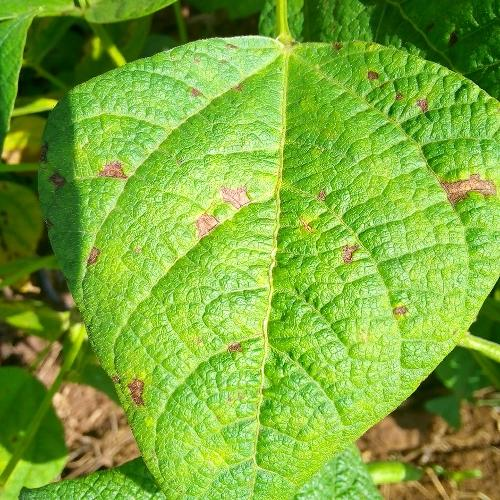hawar: (11, 232, 420, 404)
mozaik: (15, 126, 413, 247)
